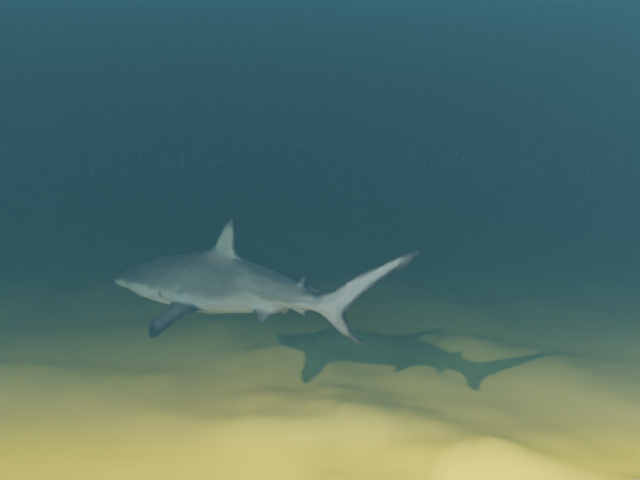Carribean Shark.001: (114, 218, 420, 344)
